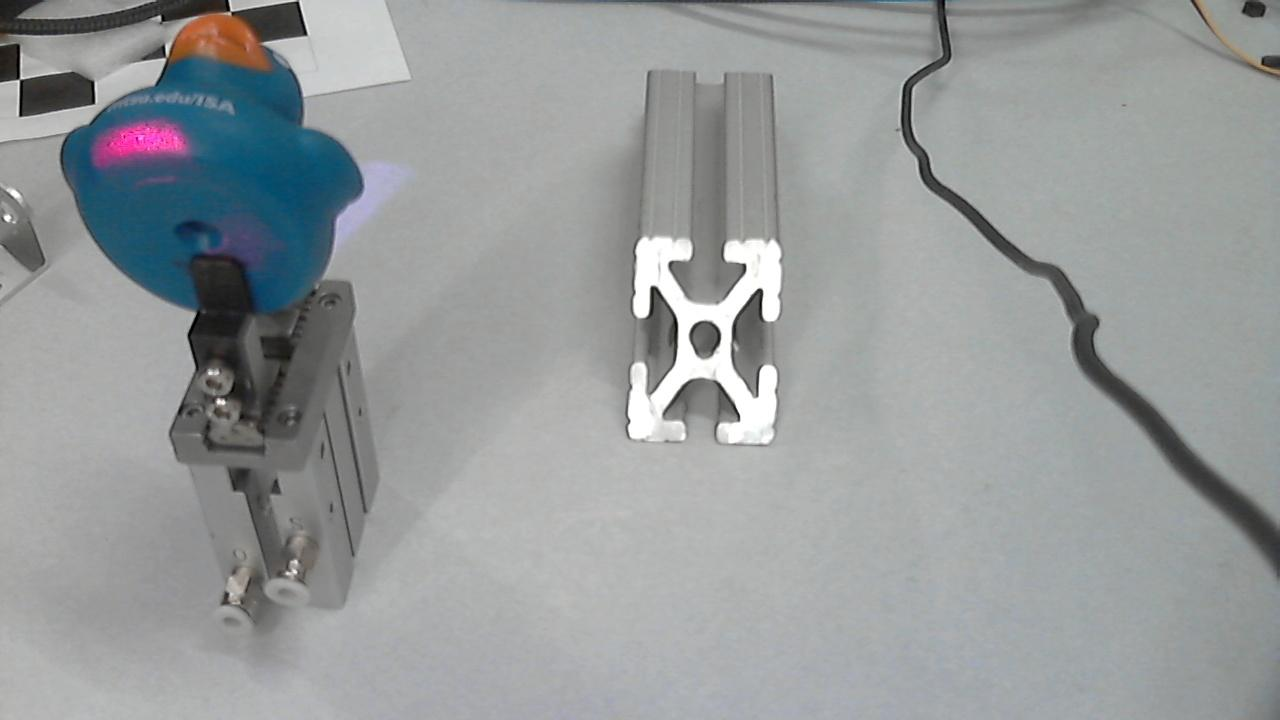Object rubber duck - Material rubber -Color blue - Pdfname BWuUnwTLudUE: (60, 107, 203, 188)
